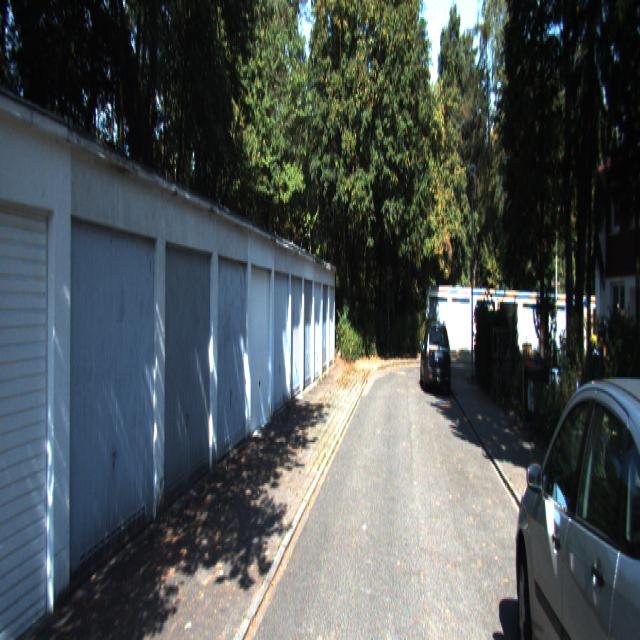Car: (512, 352, 640, 638), (422, 322, 452, 395)
